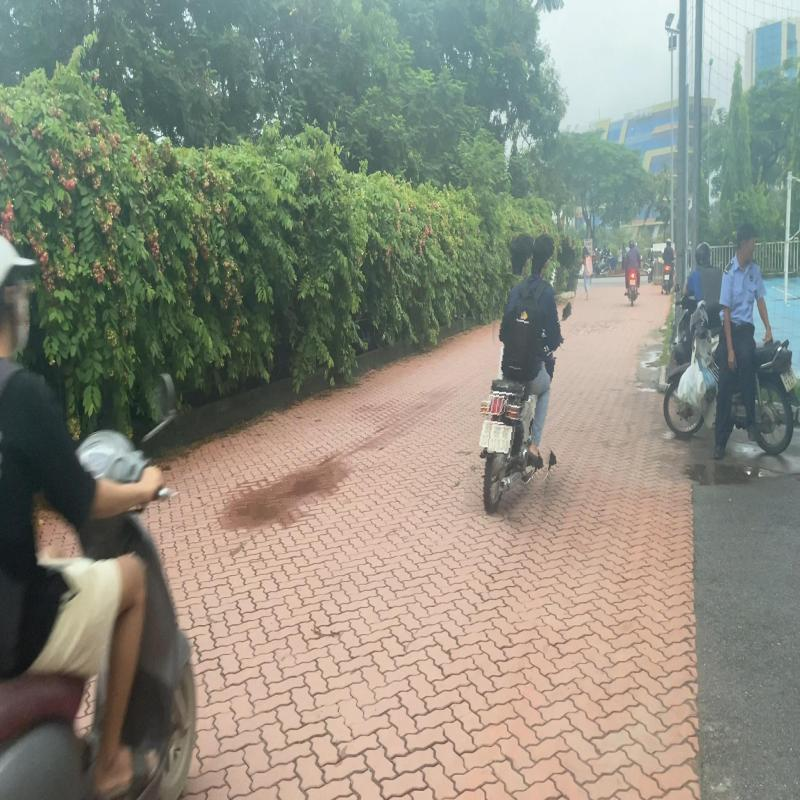licenseplate: (488, 423, 514, 454)
motorcyclist: (472, 228, 573, 522)
nohelmet: (507, 232, 534, 276)
